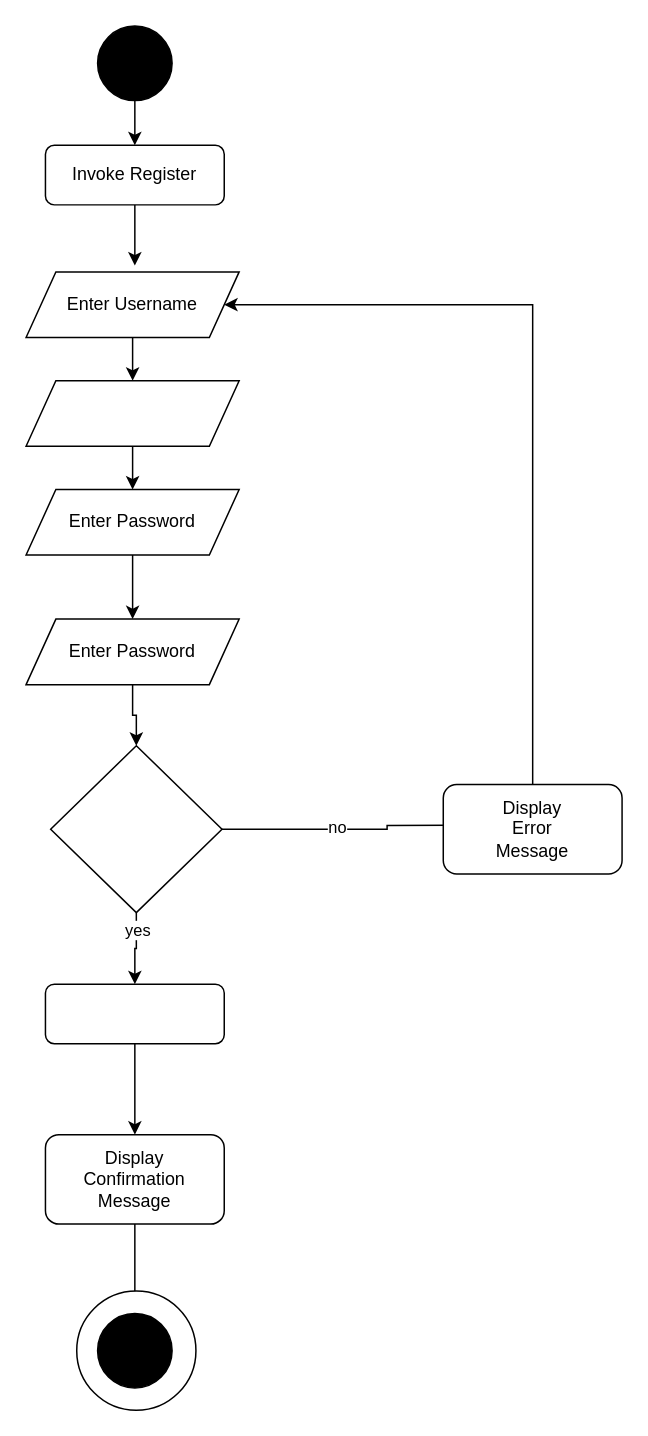
This 648x1436 diagram has some shape labels left out. The centre of each missing label's shape, as x and y in pixels:
"Enter Email" belongs at [132,412].
"Insert to DB" belongs at [134,1013].
"is valid data?" belongs at [135,828].
